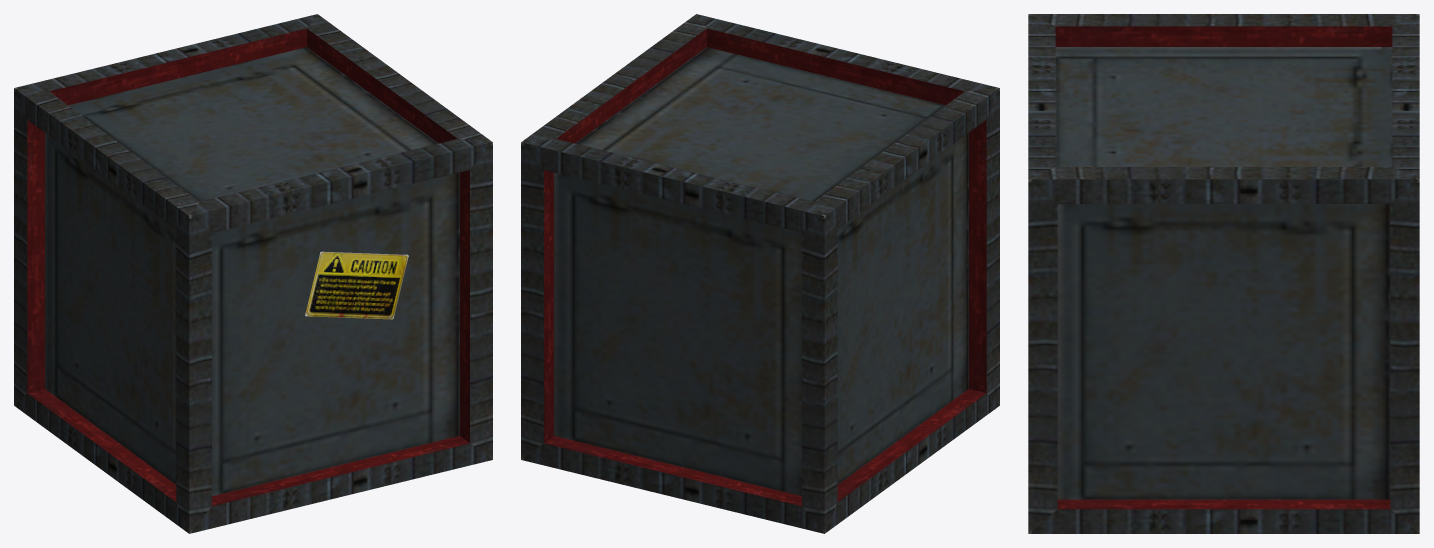
Rendered from Model_Crate_09.fbx.
The picture shows the model from 3 angles, left to right: view 1: azimuth 30°, elevation 25°; view 2: azimuth 150°, elevation 25°; view 3: azimuth 270°, elevation 25°; orthographic projection. The views are drawn at different scales.
Parts seen in each view (by area): view 1: Crates_09; view 2: Crates_09; view 3: Crates_09.
Boxes of the visible parts, <box> form: Crates_09: <box>14,14,492,533</box>; Crates_09: <box>521,14,999,533</box>; Crates_09: <box>1028,14,1419,533</box>.
Bounding box in the file's own units: 62.89 × 62.89 × 62.89.
